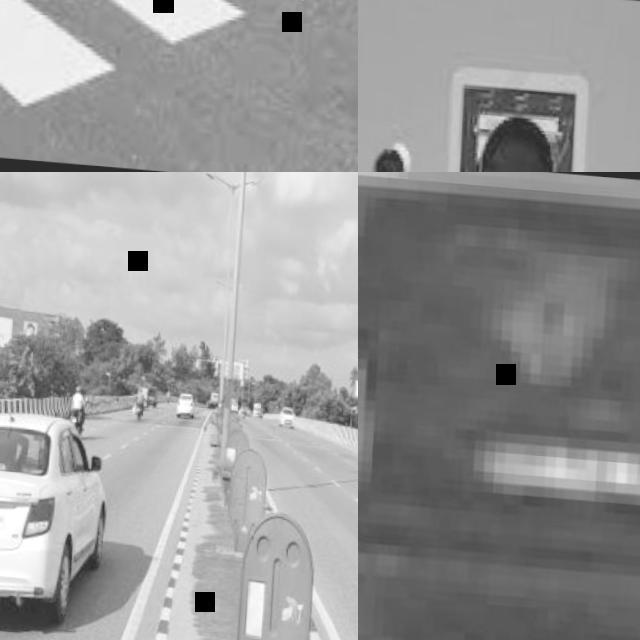car: (0, 406, 108, 628)
